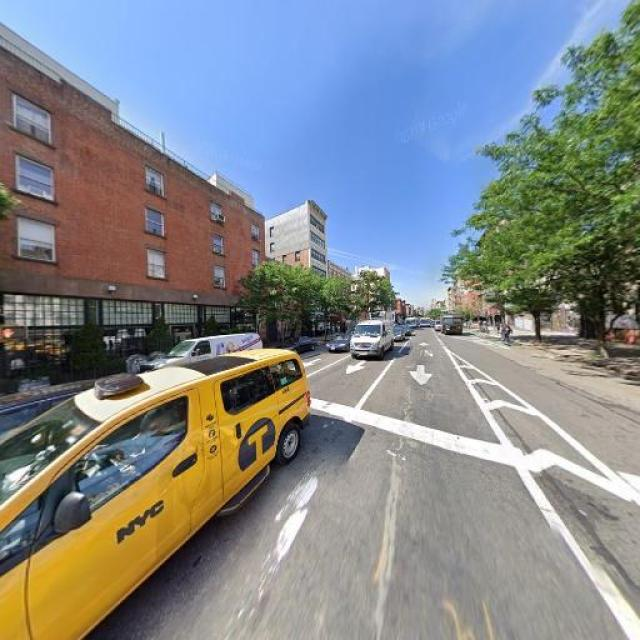Building: (1, 59, 265, 383), (269, 257, 309, 343), (327, 262, 350, 333), (312, 205, 324, 337)
